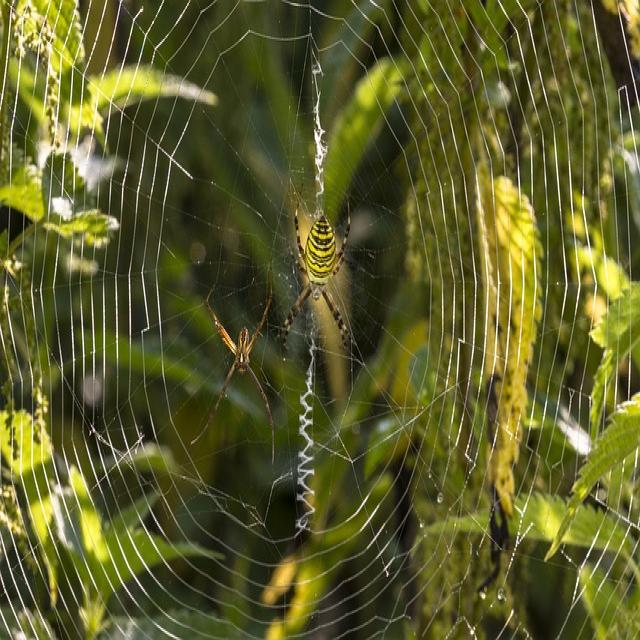spyder: (191, 290, 274, 446), (283, 183, 351, 343), (284, 222, 350, 331), (295, 188, 304, 251)
